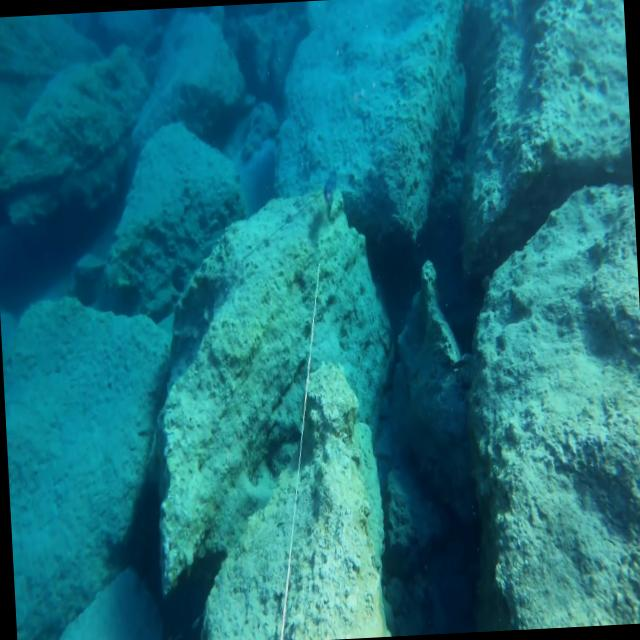Balon Baligi: (322, 170, 338, 219)
